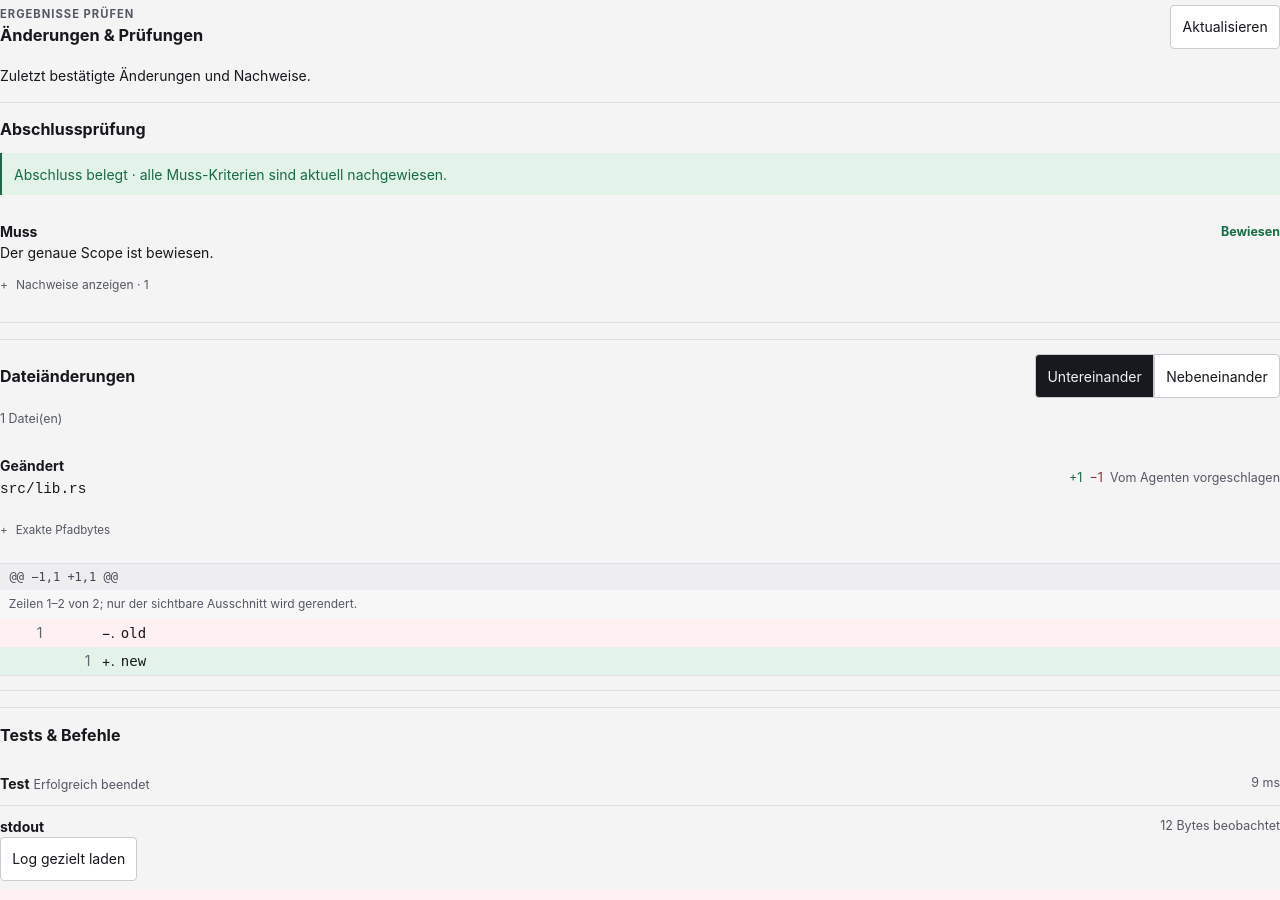
Test: AgentInspectionPanel › loads bounded logs only on demand and continues from the Core-provided offset
The width and height of the screenshot is (1280, 900).
Click the button with aria-label "stdout-Log gezielt laden" at coordinates (69, 859), box [0,837,137,881]
(page scrolled)
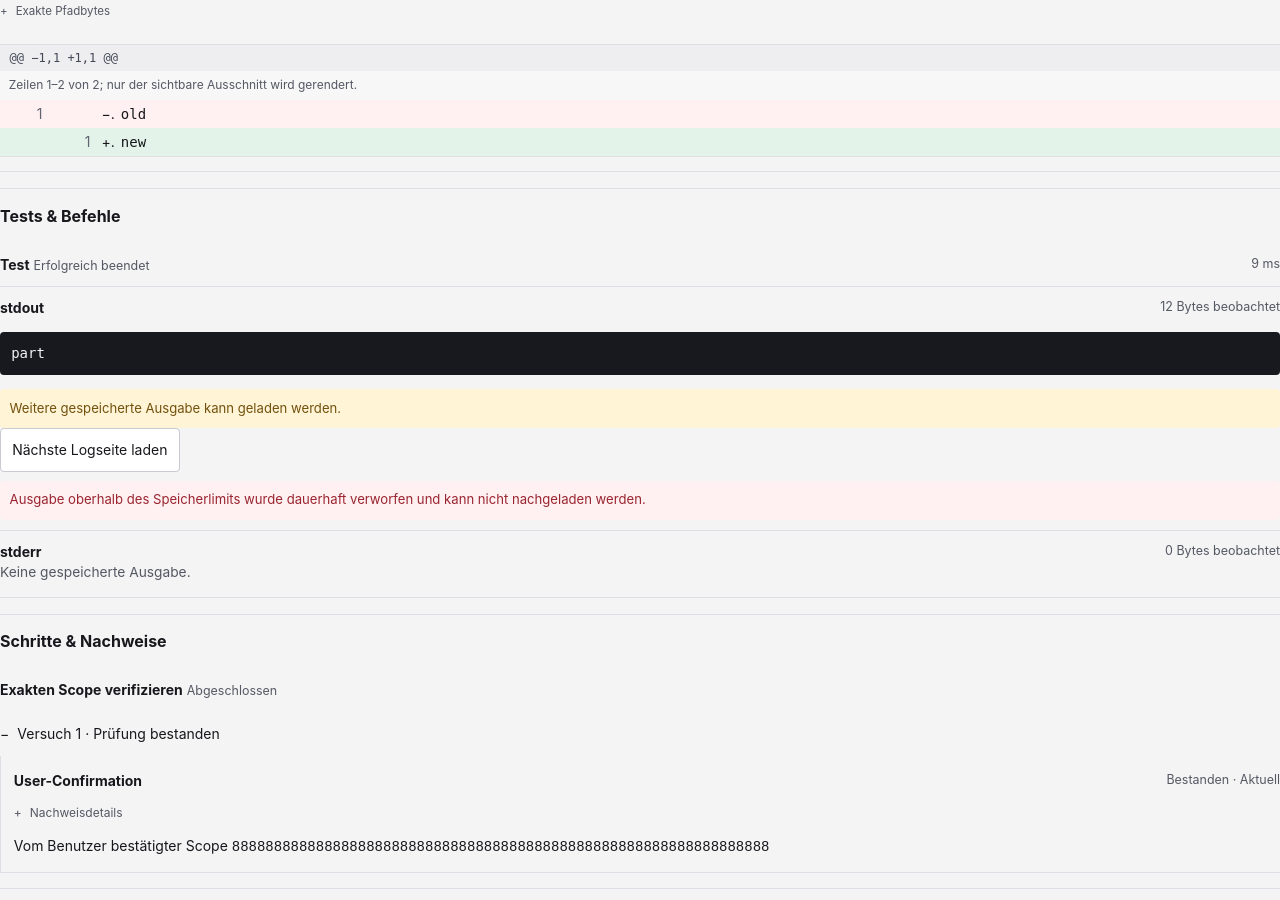
Check: the text "part" is shown, box [0,332,1279,375]
Click the button with aria-label "Nächste stdout-Logseite laden" at coordinates (90, 450), box [0,428,180,472]
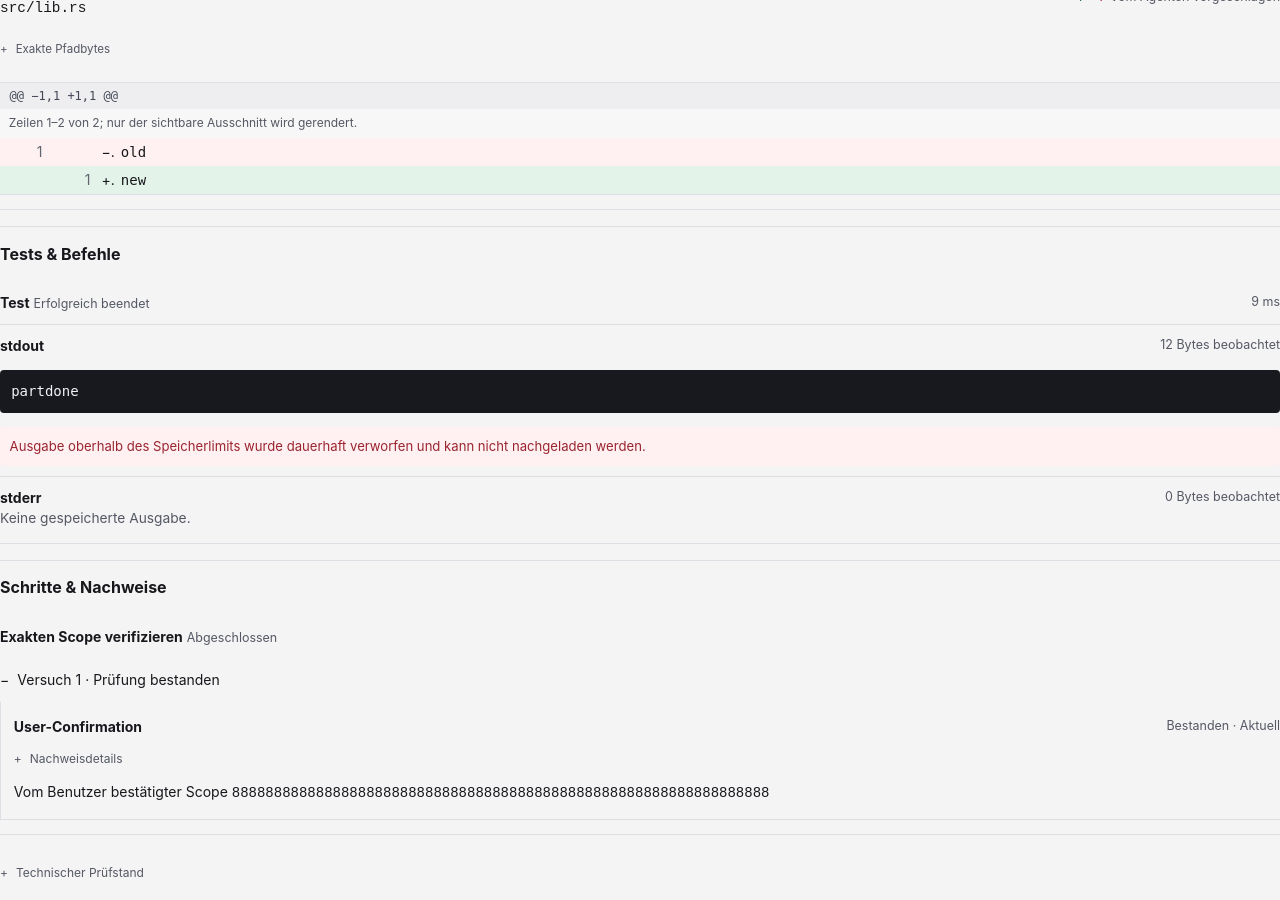
Check: the text "partdone" is shown, box [0,370,1279,413]
